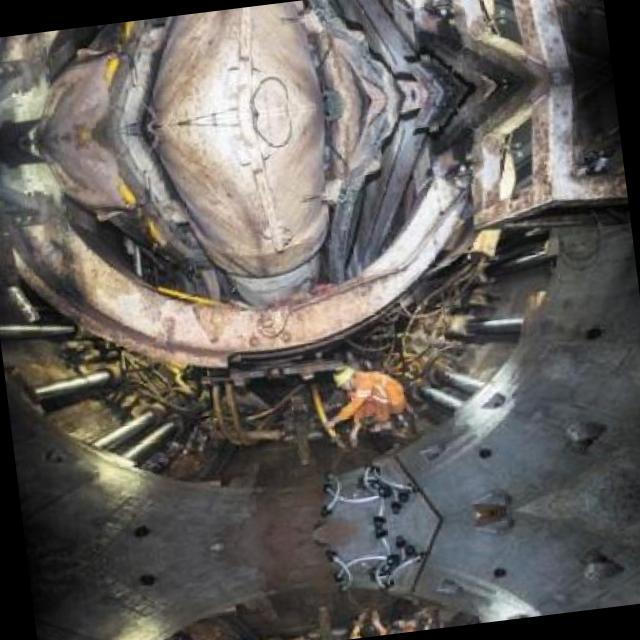helmet: (328, 362, 360, 394)
